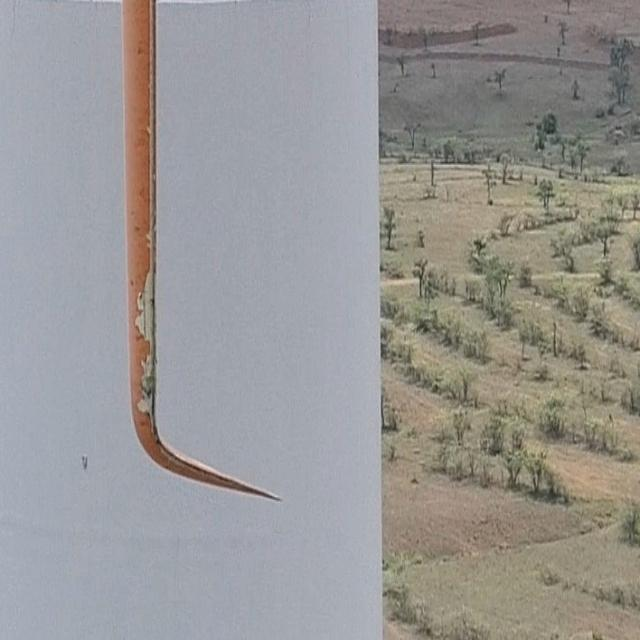EROSION: (139, 278, 165, 453)
